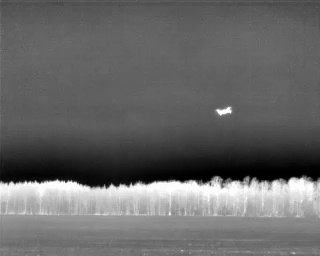DRONE: (212, 101, 237, 120)
